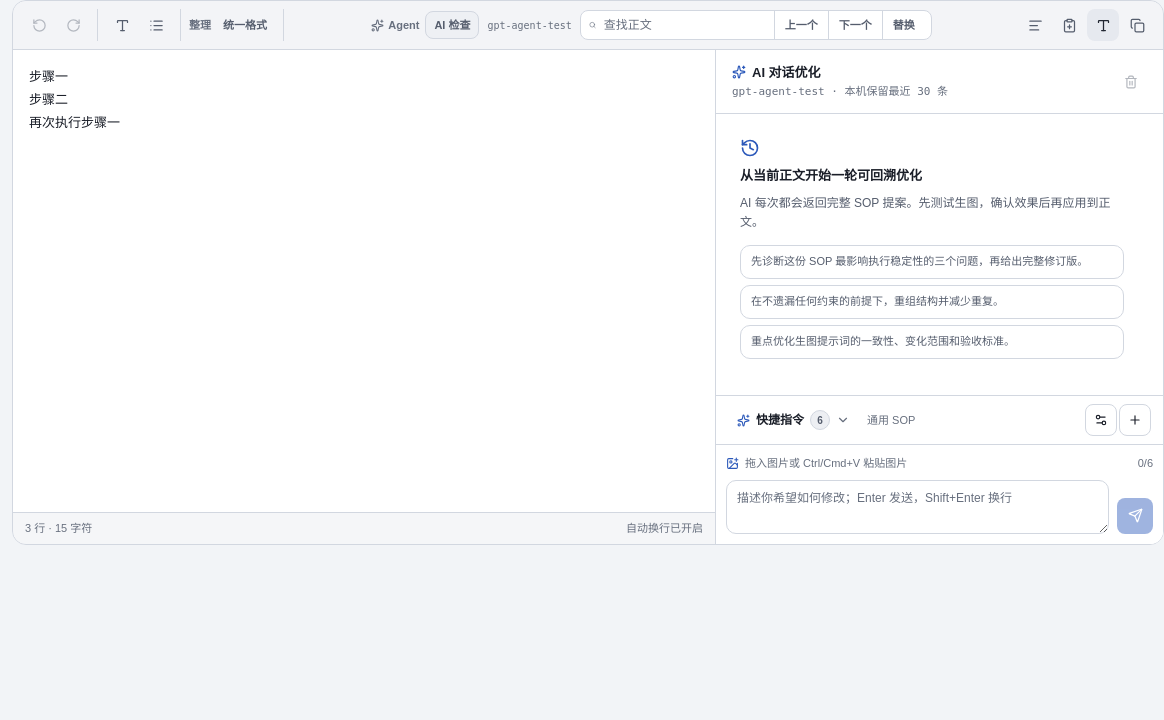
Test: SopTextEditor search feedback › auto-locates the first match while typing, then navigates with the previous/next buttons
Type "步骤" into the field with placeholder "查找正文".
click(685, 25); type("步骤")  # box [596,16,774,34]
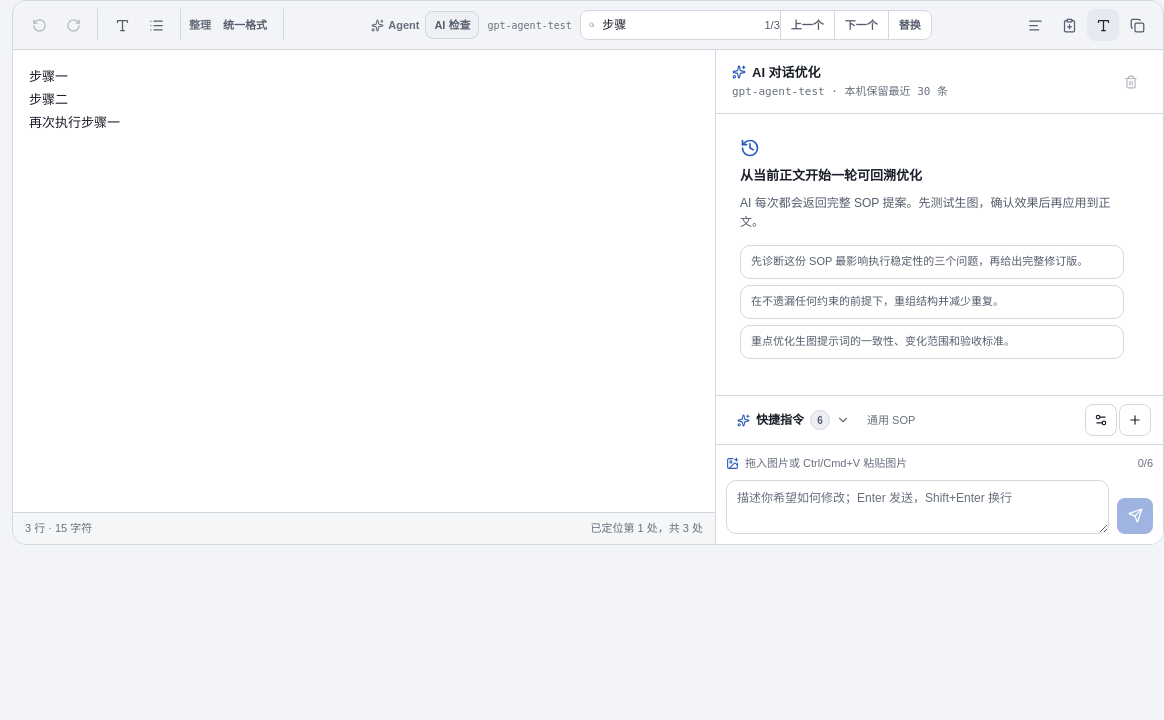
Click the button "下一个".
click(861, 25)  # box [834,11,888,39]
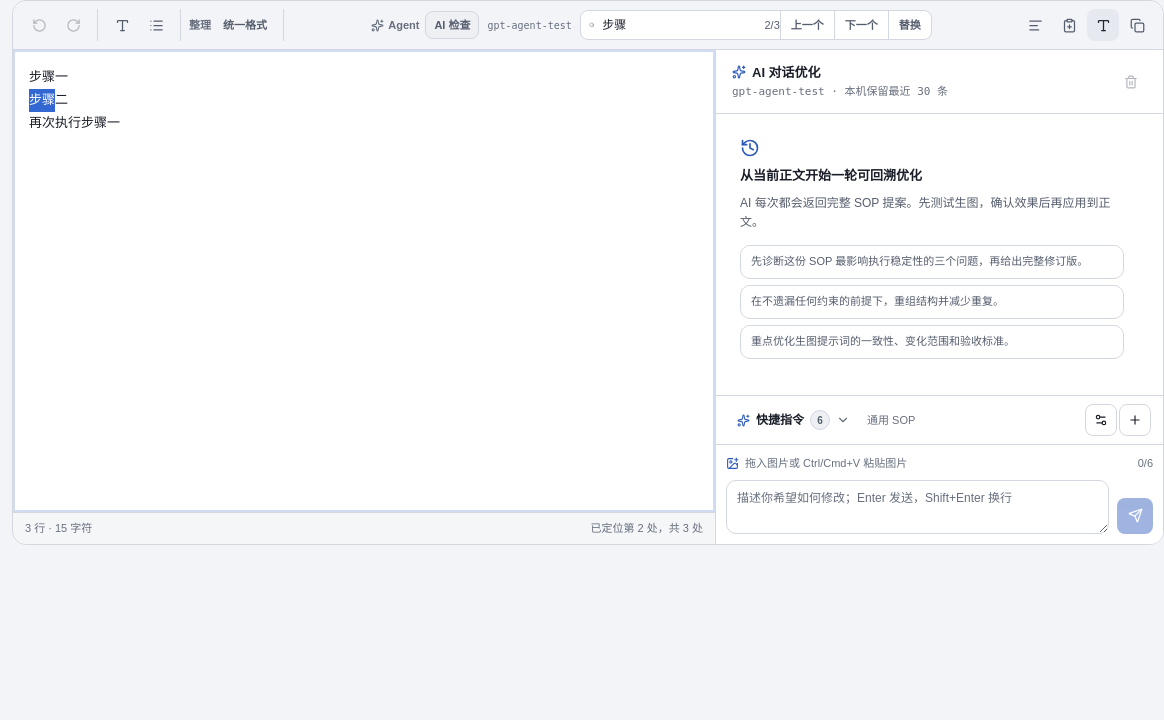
Click the button "上一个".
click(807, 25)  # box [780,11,834,39]
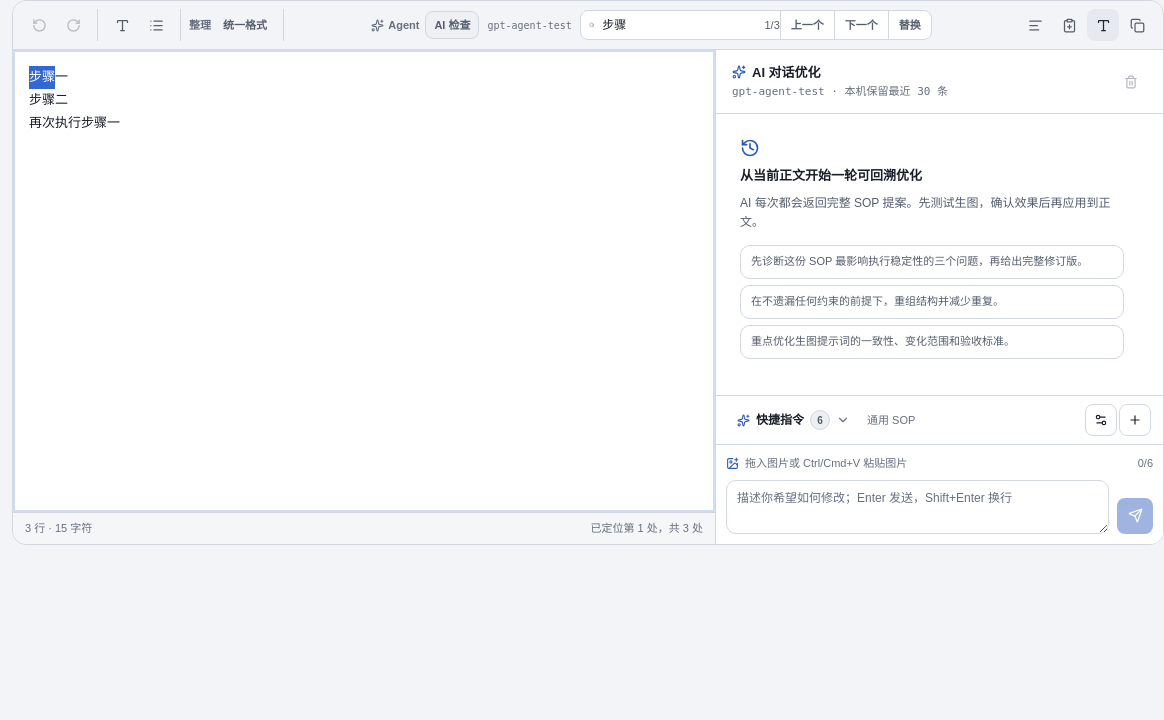
Replace the text in the field named "查找正文" with "不存在" at (667, 25), box [594,16,740,34]
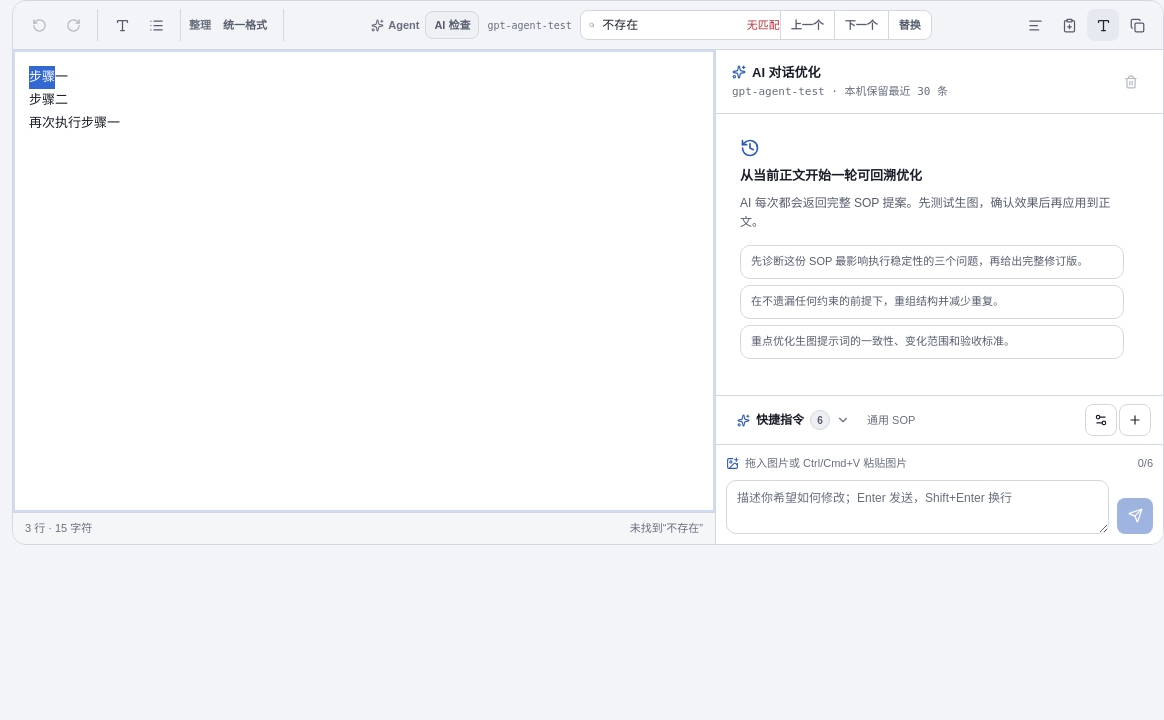
Result: the message "无匹配" is shown at [747,19,780,31]
